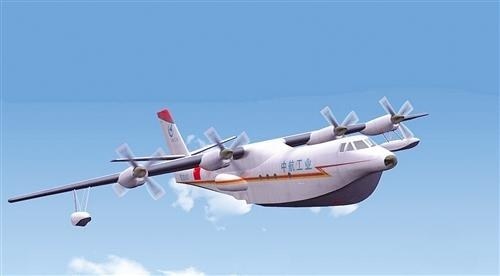airplane: (9, 92, 430, 234)
